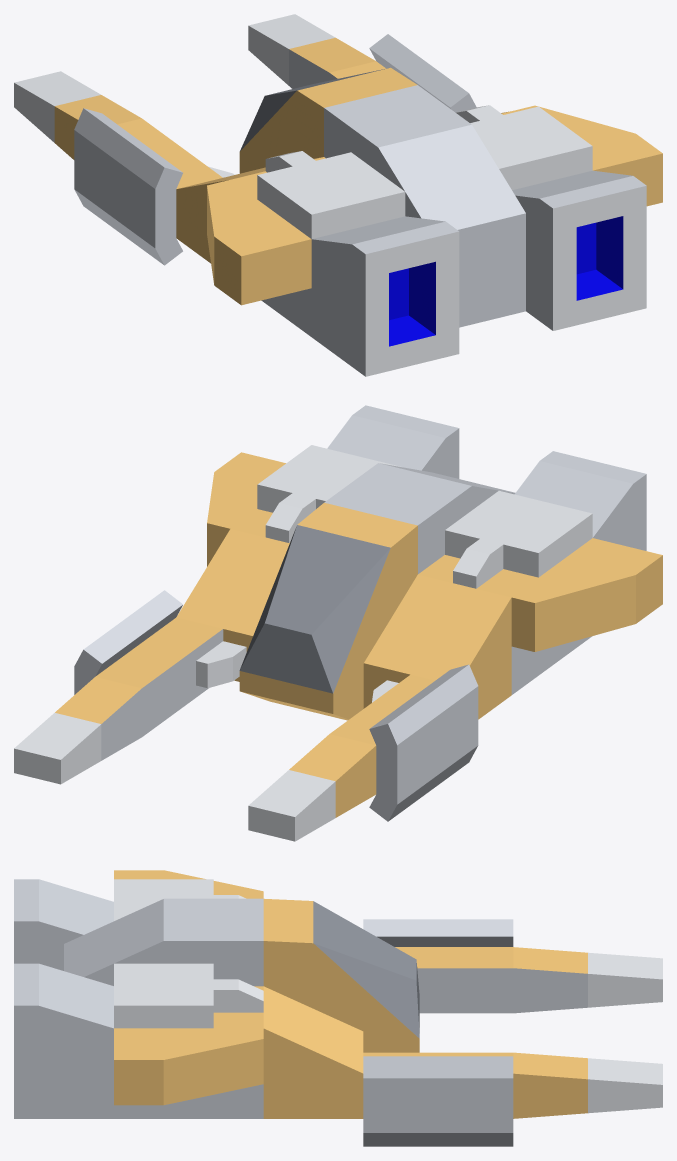
Rendered from craft_miner_scaled.glb.
3 views of the same model, one above another, from view 1: azimuth 30°, elevation 25°; view 2: azimuth 150°, elevation 25°; view 3: azimuth 270°, elevation 25° (orthographic). The views are drawn at different scales.
Parts seen in each view (by area): view 1: craft_miner; view 2: craft_miner; view 3: craft_miner.
Part boxes in pixels (<box>): craft_miner: <box>14,14,662,376</box>; craft_miner: <box>14,405,662,841</box>; craft_miner: <box>14,870,662,1146</box>.
Size of the model in its own units: 18 by 7 by 26.
